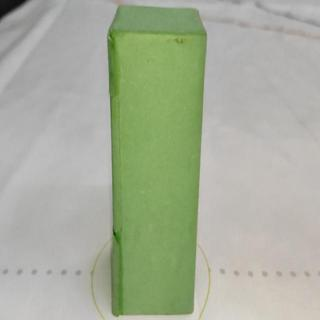greenbox: (105, 1, 209, 317)
